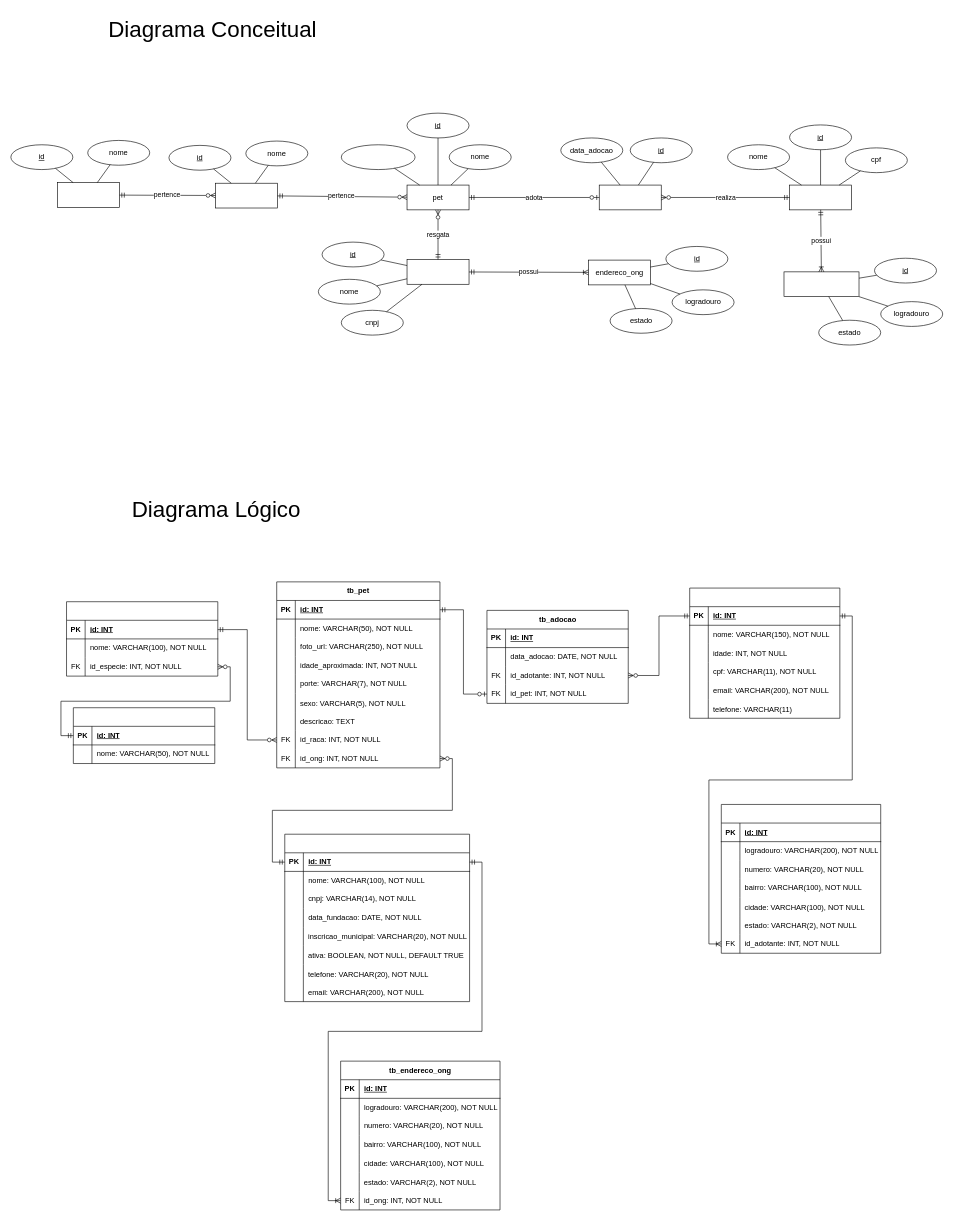
Some shapes in this 954 by 1221 pixel diagram are drawn without their labels. Here are the shapes that lost their labels. From the top down, the box of each, then its label:
(341, 144, 415, 170): idade_aproximada
(57, 182, 119, 207): especie
(215, 183, 277, 208): raca
(599, 184, 661, 210): adocao
(789, 184, 852, 210): adotante
(406, 259, 469, 284): ong
(783, 271, 859, 297): endereco_adotante
(66, 601, 218, 676): tb_raca
(689, 587, 840, 718): tb_adotante
(73, 707, 215, 764): tb_especie
(721, 804, 881, 953): tb_endereco_adotante
(284, 834, 470, 1002): tb_ong
